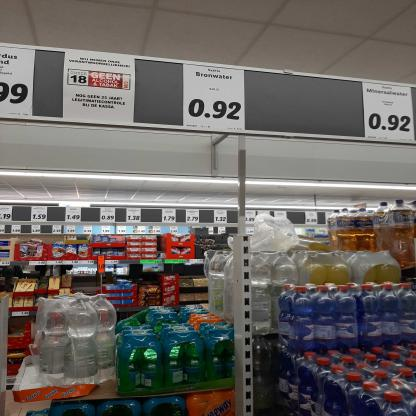prtg: (184, 65, 246, 131), (363, 83, 416, 142), (1, 47, 37, 117)
